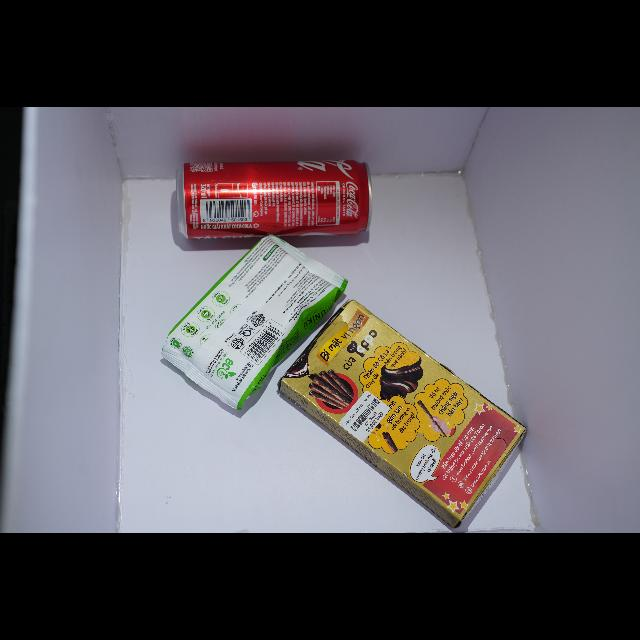banh_toppo_socola: (279, 300, 525, 528)
coca_cola: (176, 160, 370, 239)
khan_giay: (162, 236, 348, 410)
